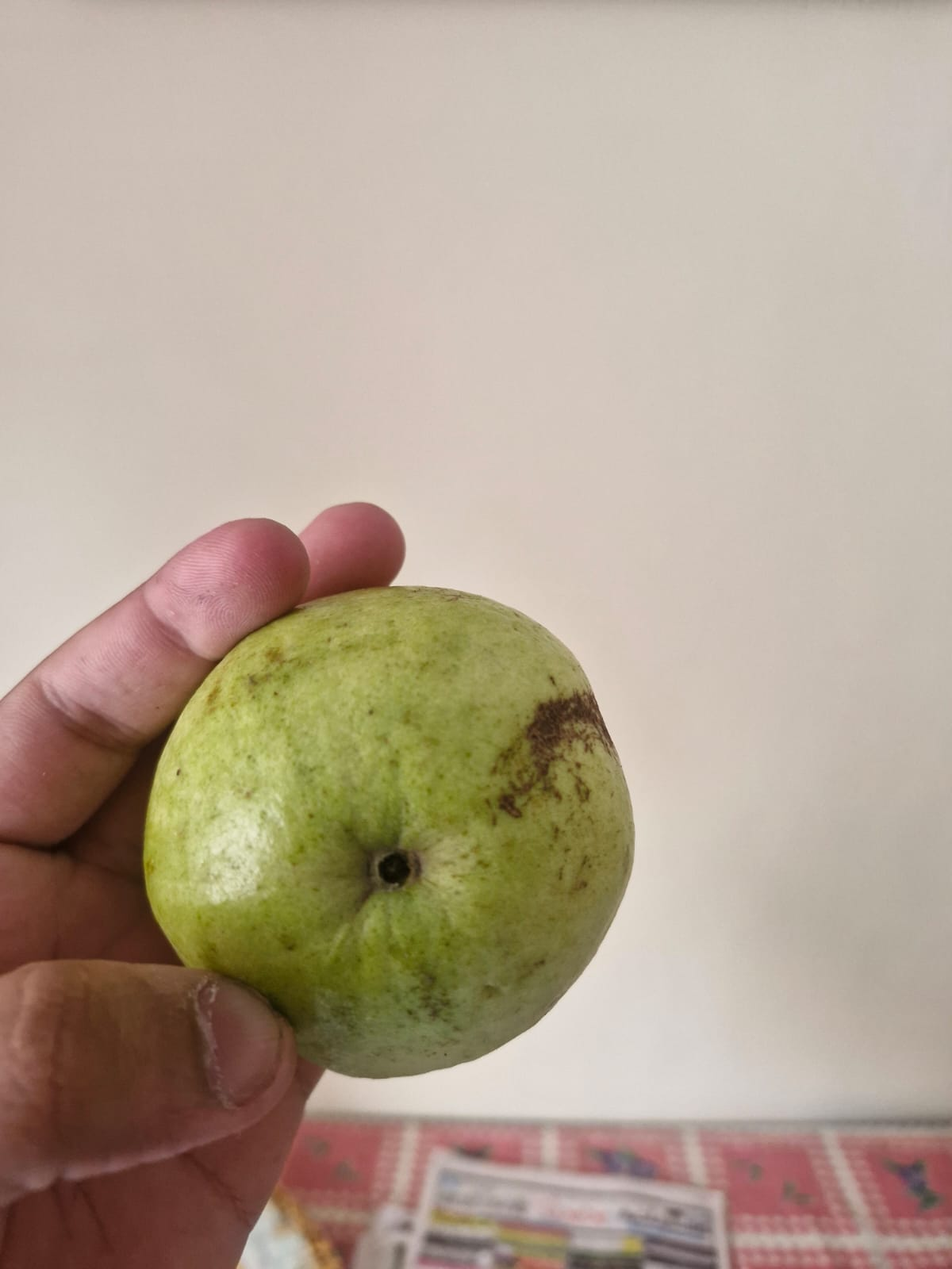guava: (232, 227, 876, 1259)
